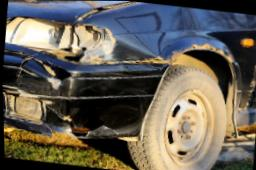Bonnet: (6, 0, 153, 30)
Bumper: (1, 43, 155, 146)
Light: (4, 16, 102, 57)
